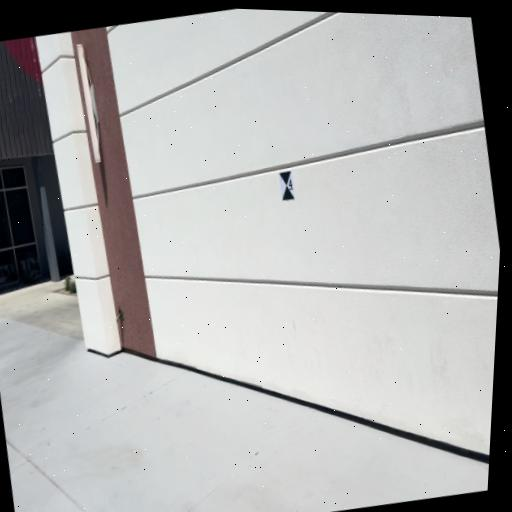target4: (278, 169, 296, 200)
